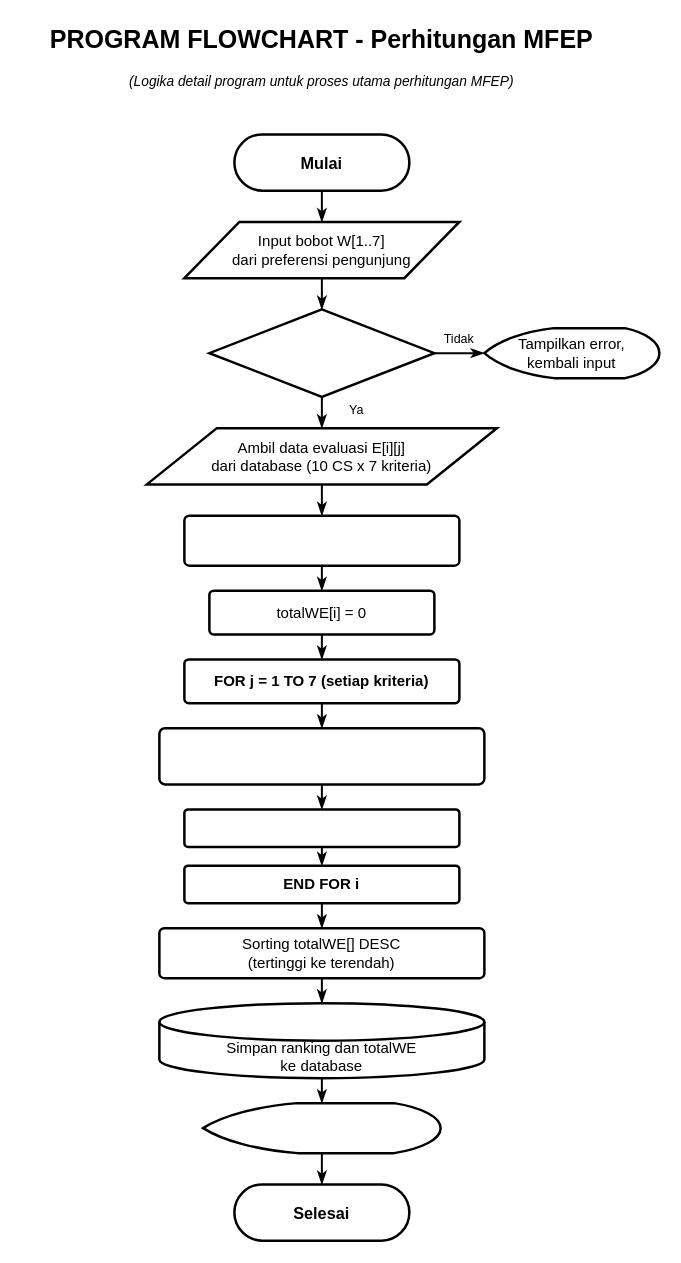
Some shapes in this 681 by 1263 pixel diagram are drawn without their labels. Each missing label, with the centre of its shape:
"END FOR j" belongs at point 321,828.
"FOR i = 1 TO 10 (setiap CS)" belongs at point 321,540.
"Tampilkan hasil ranking ke pengunjung" belongs at point 321,1127.
"WE[i][j] = W[j] x E[i][j] totalWE[i] += WE[i][j]" belongs at point 321,755.
"∑W[i] = 1.00 ?" belongs at point 321,353.
